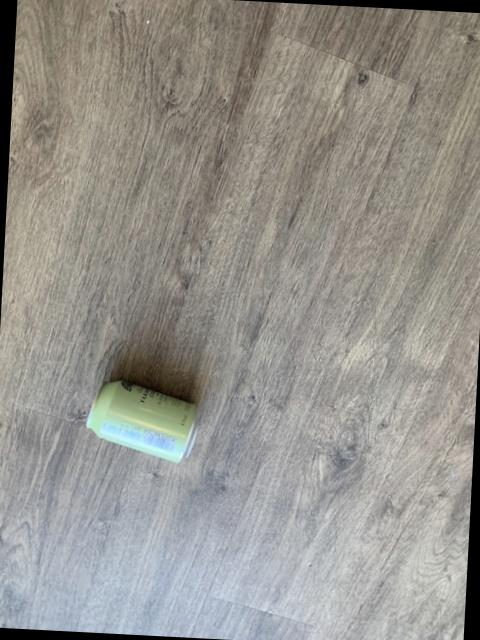metal: (85, 379, 195, 460)
